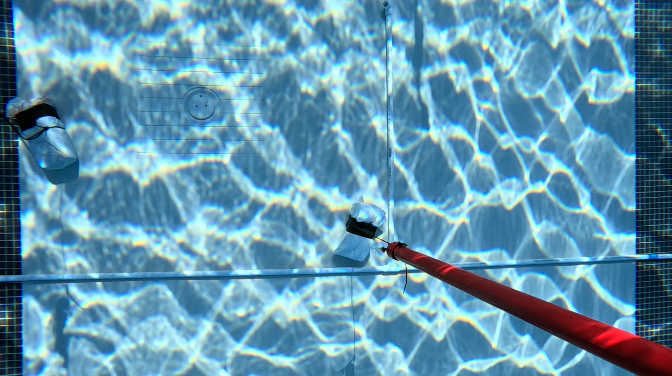sandbag: (10, 95, 77, 169), (337, 200, 384, 259)
